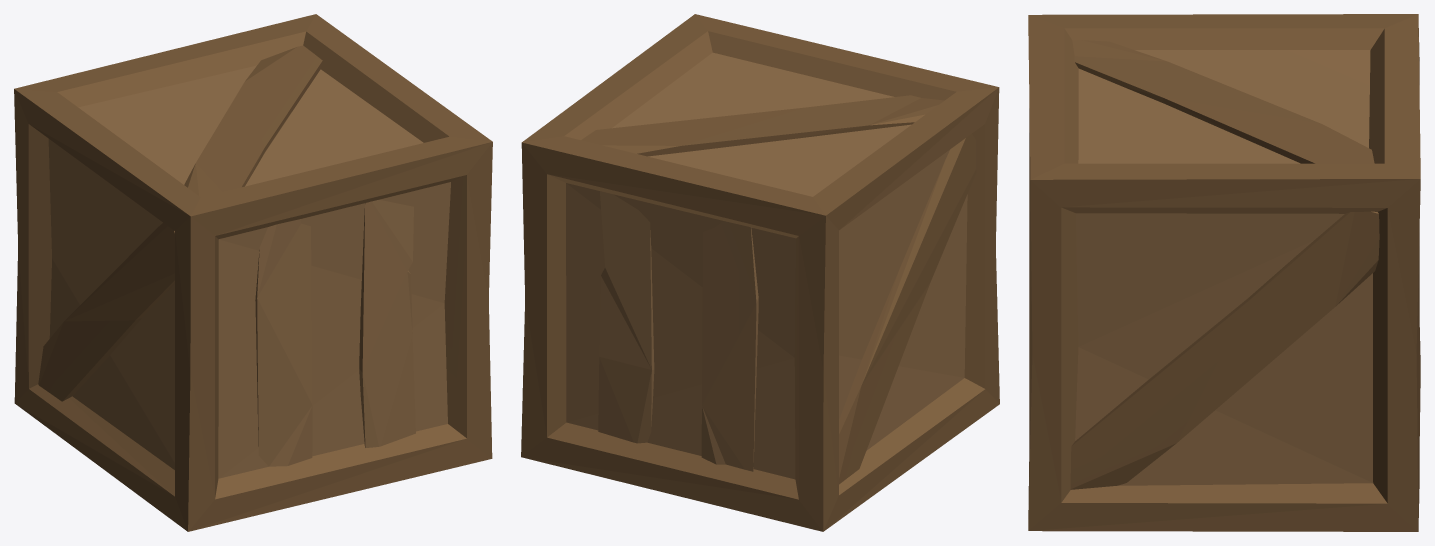
Rendered from Mesh_Props_Box_07.FBX.
The picture shows the model from 3 angles, left to right: view 1: azimuth 30°, elevation 25°; view 2: azimuth 150°, elevation 25°; view 3: azimuth 270°, elevation 25°; orthographic projection. The views are drawn at different scales.
Parts seen in each view (by area): view 1: Mesh_Props_Box_07; view 2: Mesh_Props_Box_07; view 3: Mesh_Props_Box_07.
Boxes of the visible parts, x1=… form: Mesh_Props_Box_07: x1=14, y1=14, x2=492, y2=531; Mesh_Props_Box_07: x1=521, y1=14, x2=999, y2=531; Mesh_Props_Box_07: x1=1028, y1=14, x2=1420, y2=531.
Size of the model in its own units: 29.57 by 29.44 by 29.58.
